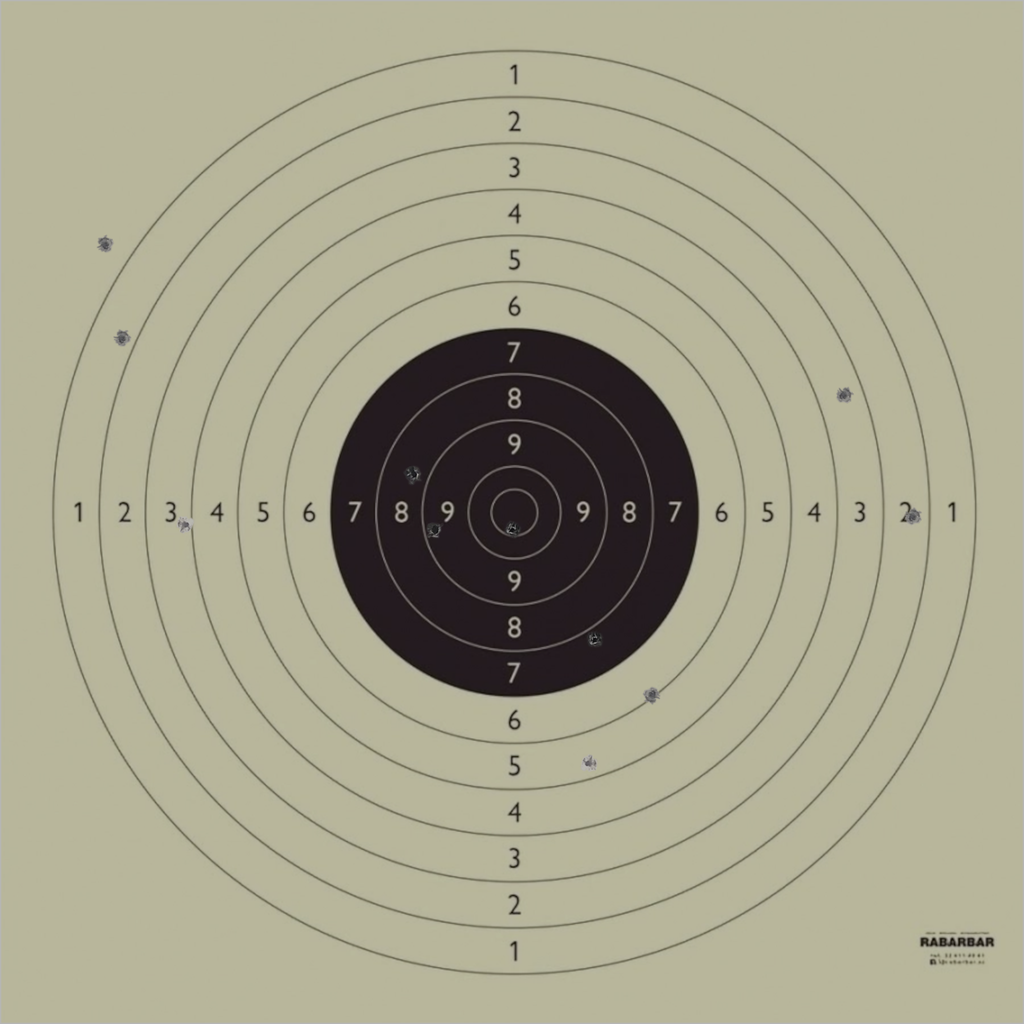0 punktow: (96, 236, 115, 254)
1 punkt: (113, 330, 131, 348)
10 punktow: (503, 521, 521, 539)
2 punkty: (903, 508, 922, 526)
3 punkty: (834, 386, 853, 405)
4 punkty: (176, 516, 195, 534)
5 punktow: (579, 754, 598, 773)
6 punktow: (643, 686, 661, 704)
7 punktow: (585, 631, 604, 649)
8 punktow: (405, 466, 423, 484)
9 punktow: (426, 521, 444, 539)
